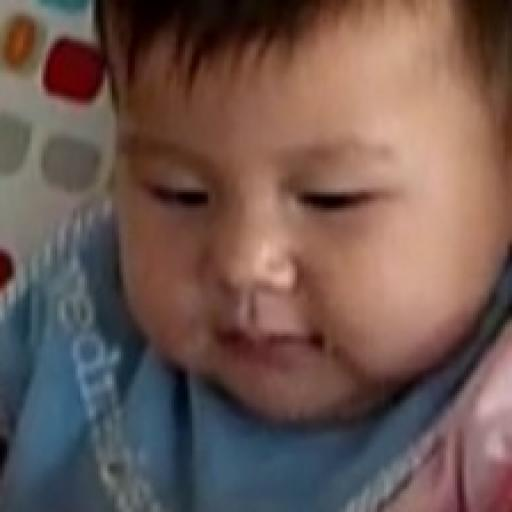Autism: (93, 4, 512, 500)
